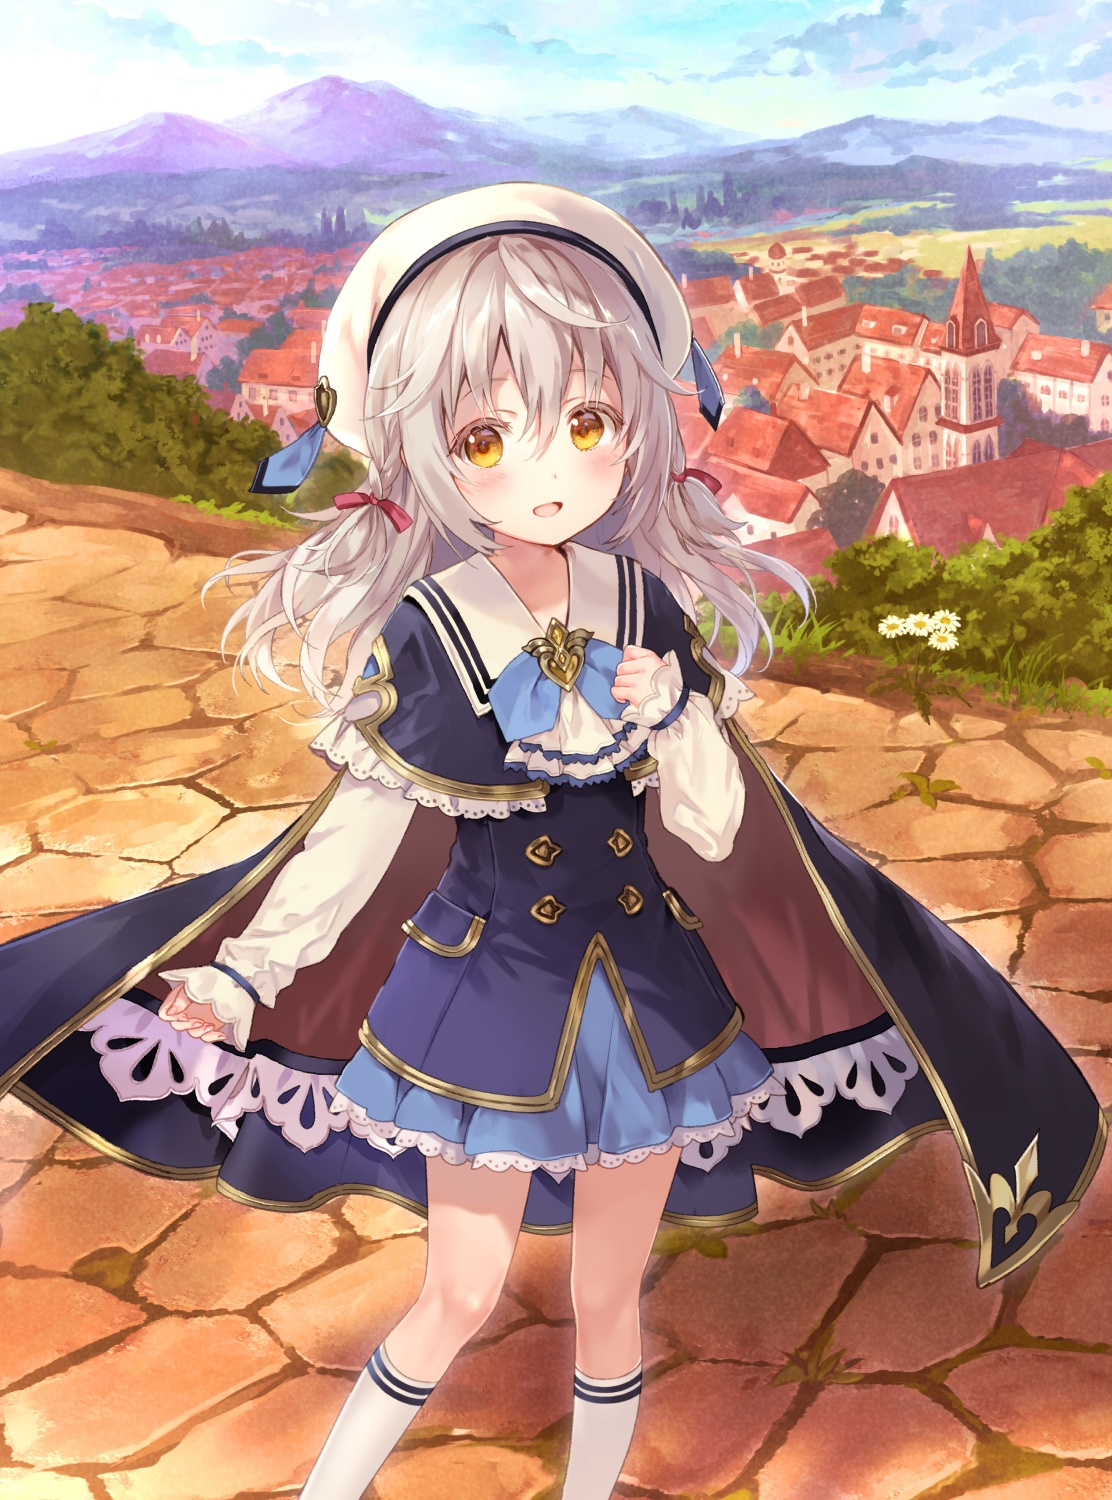纸片人正脸: (300, 174, 701, 567)
